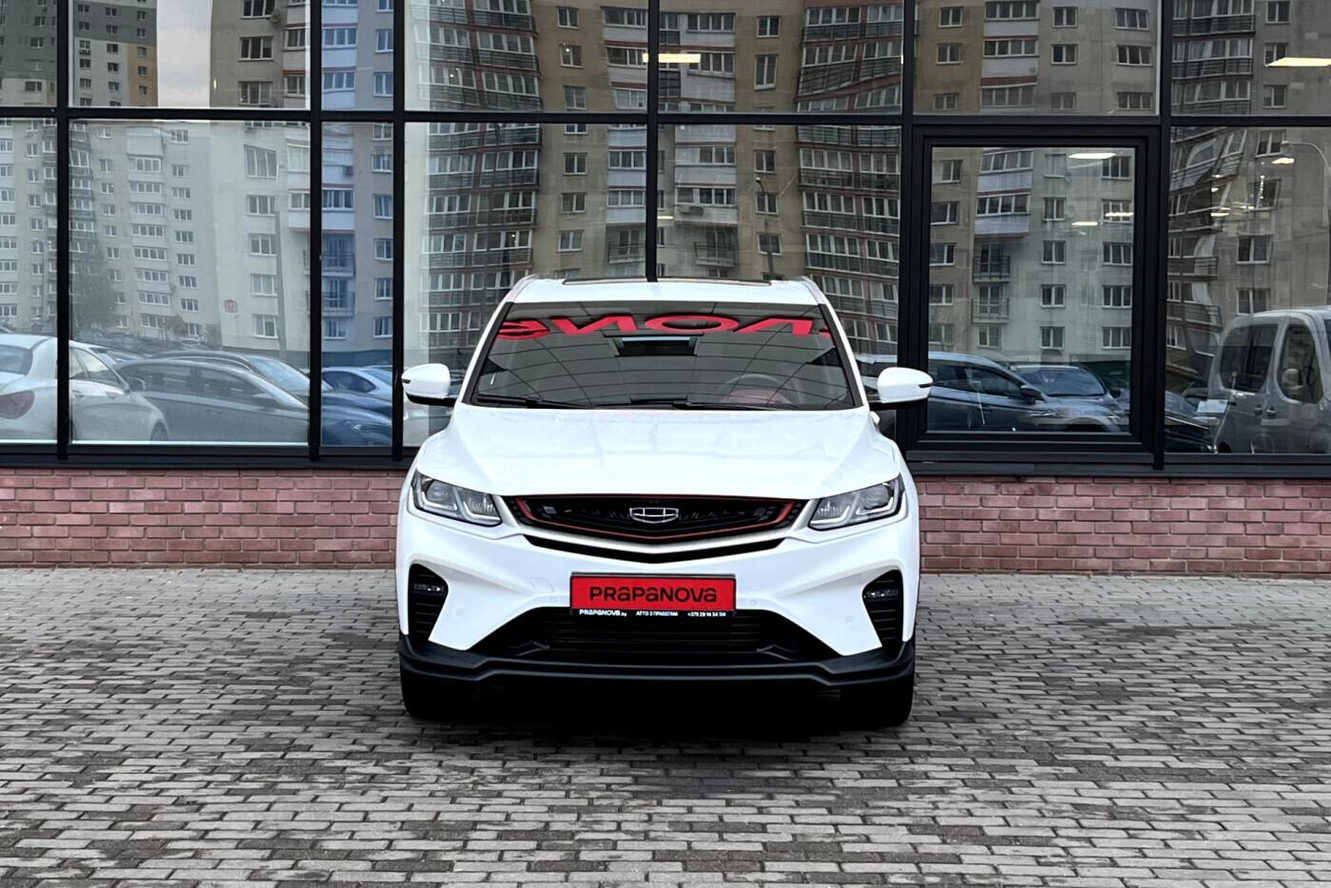Coolray_2019-2023: (380, 270, 926, 745)
